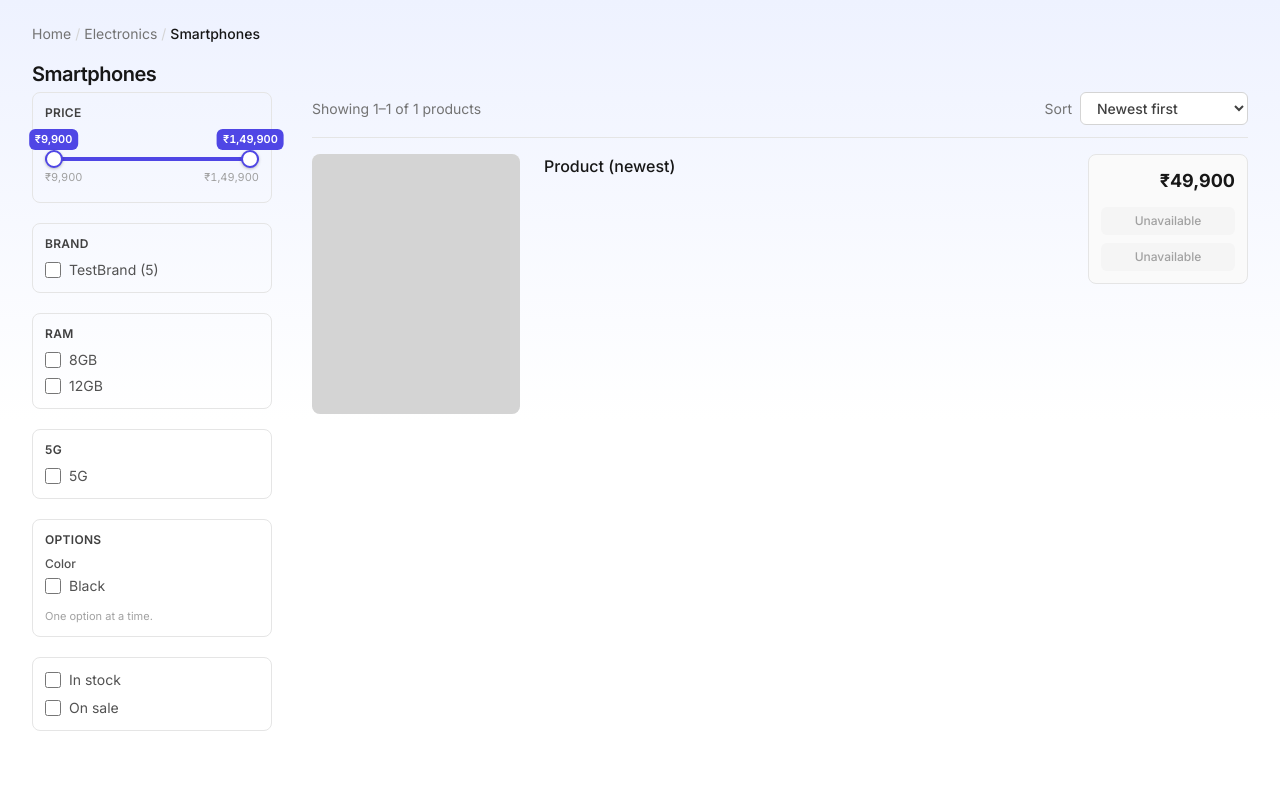
CategoryContent › re-fetches with the new sort value on sort change
The image size is (1280, 800).
Expected: the text "Product (newest)" is shown, [544, 156, 675, 176]
Select "Price: Low to High" in the dropdown labelled "Sort": (1164,108) [1080, 92, 1248, 125]
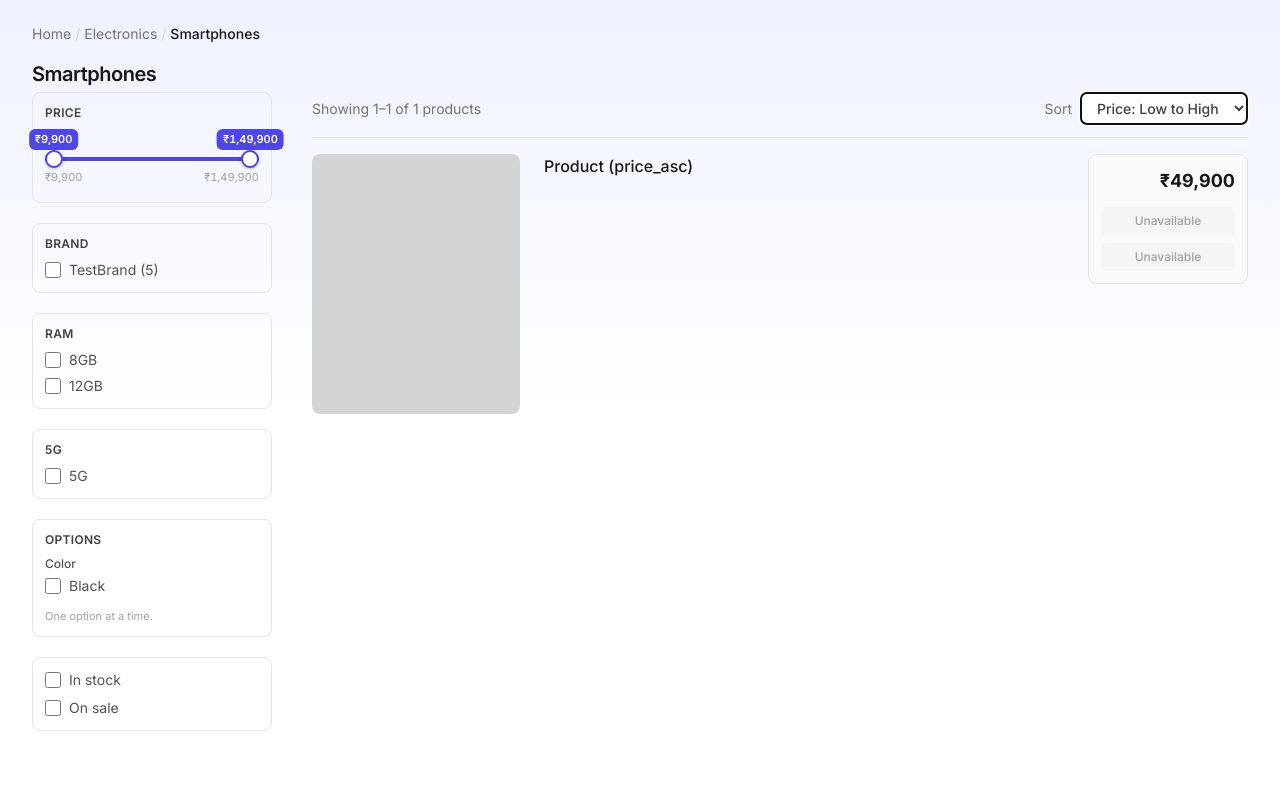
Expected: the text "Product (price_asc)" is shown, [544, 156, 693, 176]
